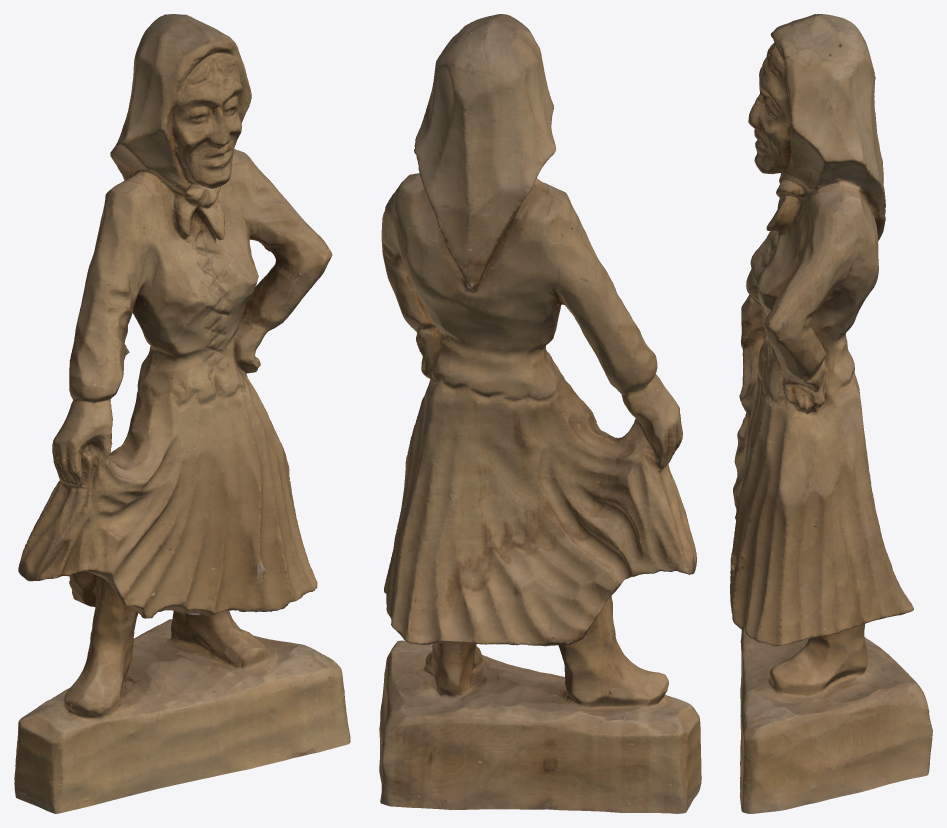
The model's file is MPLW_E_1496_lowpoly.glb.
3 renders of one model, left to right at view 1: azimuth 30°, elevation 25°; view 2: azimuth 150°, elevation 25°; view 3: azimuth 270°, elevation 25°, orthographic. The views are drawn at different scales.
Visible parts, largest first — view 1: MPLW_E_1496_lowpoly; view 2: MPLW_E_1496_lowpoly; view 3: MPLW_E_1496_lowpoly.
Boxes of the visible parts, box(x1,y1,x2,y2) form: MPLW_E_1496_lowpoly: box(14, 14, 350, 813); MPLW_E_1496_lowpoly: box(379, 14, 701, 813); MPLW_E_1496_lowpoly: box(730, 14, 932, 813).
Size of the model in its own units: 0.1448 by 0.3252 by 0.0815.
1 material, 1 textured.
